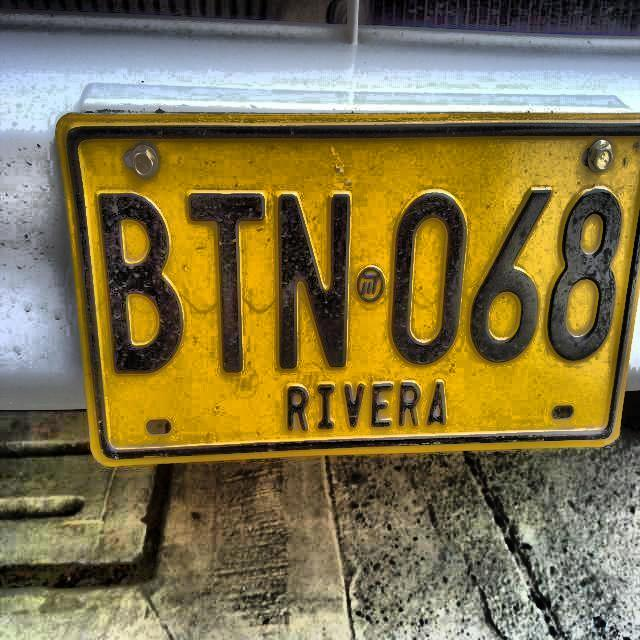plate: (65, 124, 639, 462)
